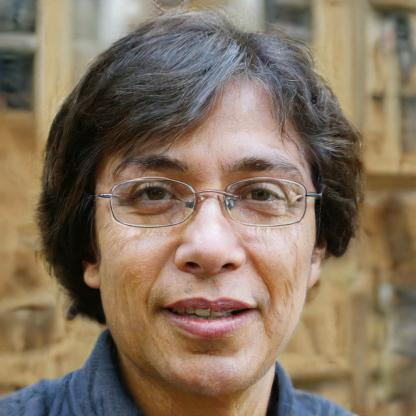glasses: (96, 170, 322, 237)
